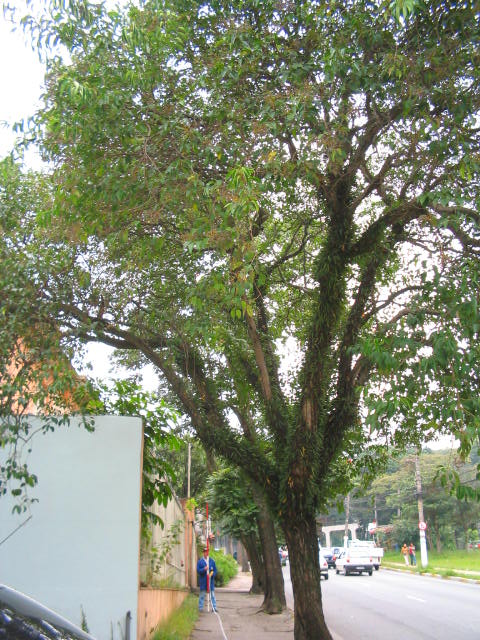stem: (283, 527, 335, 640), (246, 495, 288, 615)
stick: (199, 502, 214, 609)
